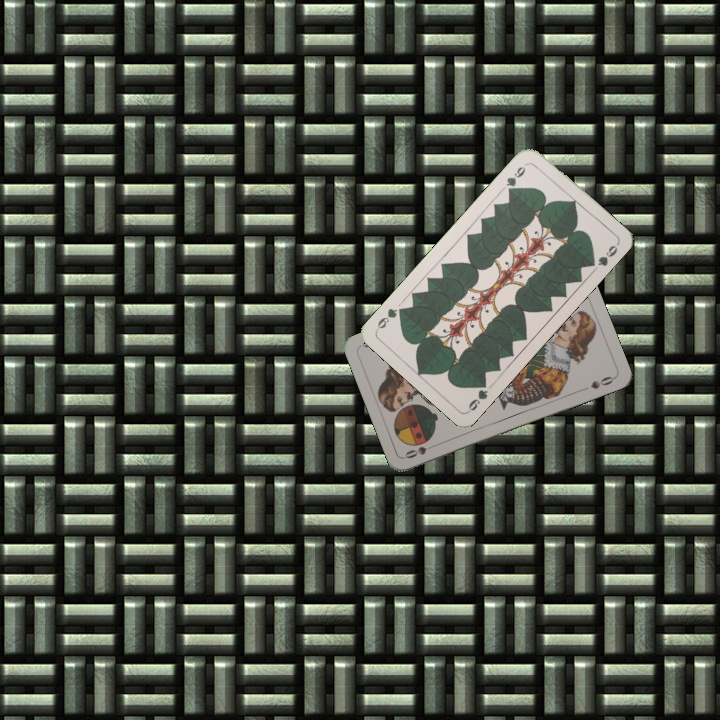G9: (502, 159, 530, 195), (464, 376, 490, 414)
SO: (401, 440, 440, 461)
